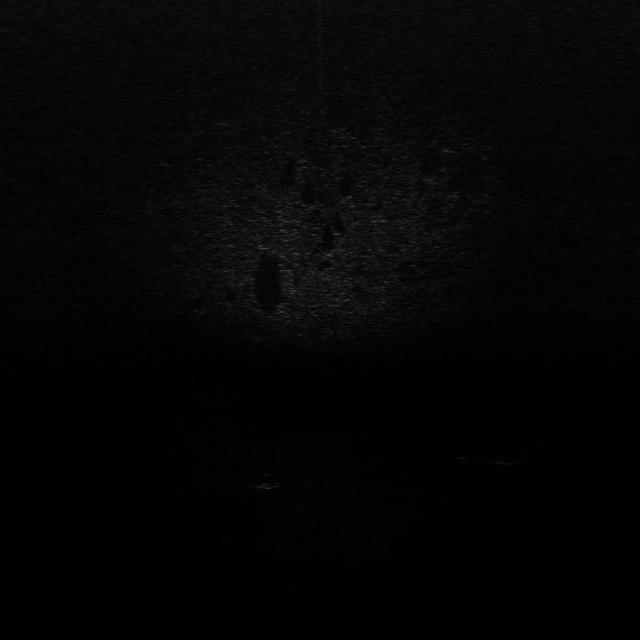ball: (251, 471, 287, 492)
human body: (458, 447, 544, 468)
